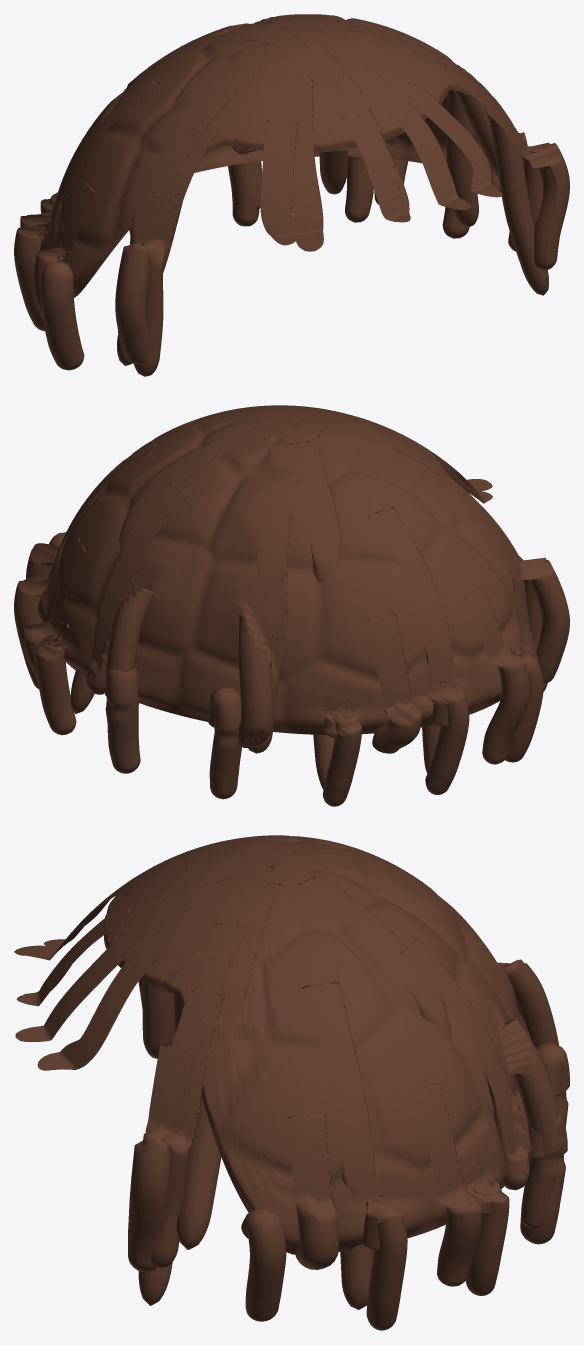
Rendered from Masculine-locs-cap252-hair.glb.
3 renders of one model, top to bottom at view 1: azimuth 30°, elevation 25°; view 2: azimuth 150°, elevation 25°; view 3: azimuth 270°, elevation 25°, orthographic. The views are drawn at different scales.
Parts seen in each view (by area): view 1: 226 hair / Hair252 / sectioned locs.001; view 2: 226 hair / Hair252 / sectioned locs.001; view 3: 226 hair / Hair252 / sectioned locs.001.
Boxes of the visible parts, box(x1,y1,x2,y2) form: 226 hair / Hair252 / sectioned locs.001: box(14, 14, 569, 376); 226 hair / Hair252 / sectioned locs.001: box(14, 405, 569, 806); 226 hair / Hair252 / sectioned locs.001: box(14, 835, 569, 1330).
Bounding box in the file's own units: 1.1 × 0.5946 × 0.8762.
